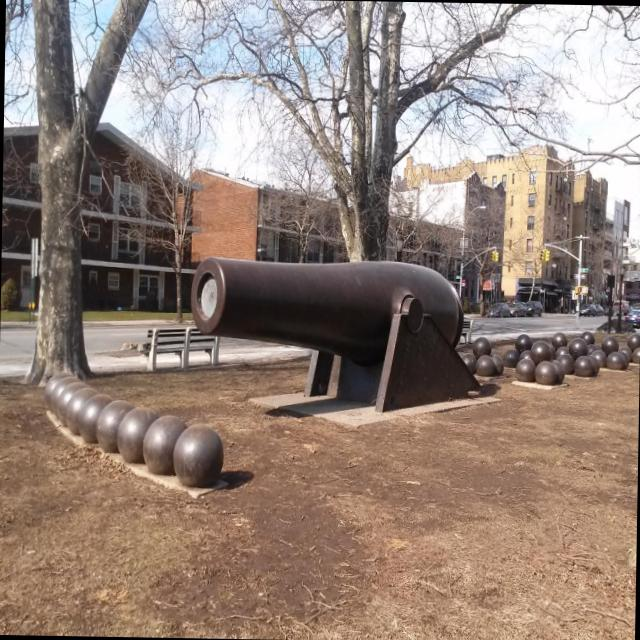Ball: (42, 366, 227, 489), (461, 328, 640, 384)
